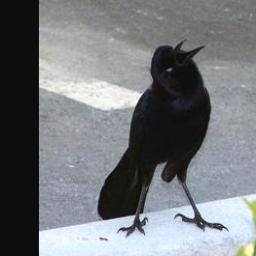Crow: (98, 37, 230, 236)
